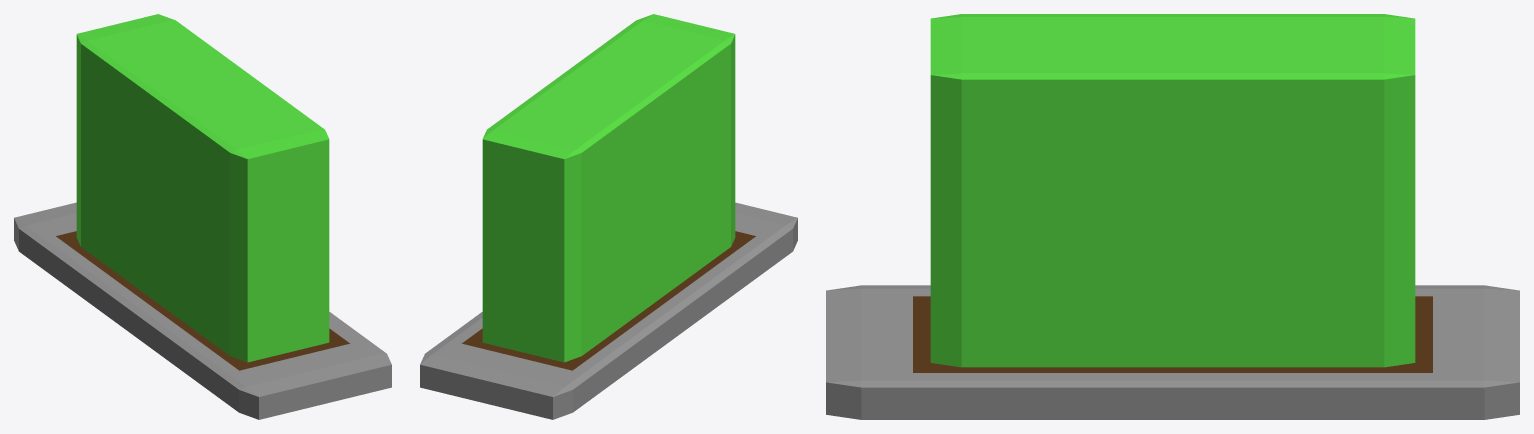
The model's file is hedge.fbx.
3 renders of one model, left to right at view 1: azimuth 30°, elevation 25°; view 2: azimuth 150°, elevation 25°; view 3: azimuth 270°, elevation 25°, orthographic. The views are drawn at different scales.
Visible parts, largest first — view 1: Cube; view 2: Cube; view 3: Cube.
Part boxes in pixels (box(x1,y1,x2,y2)): Cube: box(14, 14, 391, 419); Cube: box(420, 14, 797, 419); Cube: box(826, 14, 1519, 419).
Size of the model in its own units: 244 by 363 by 701.
